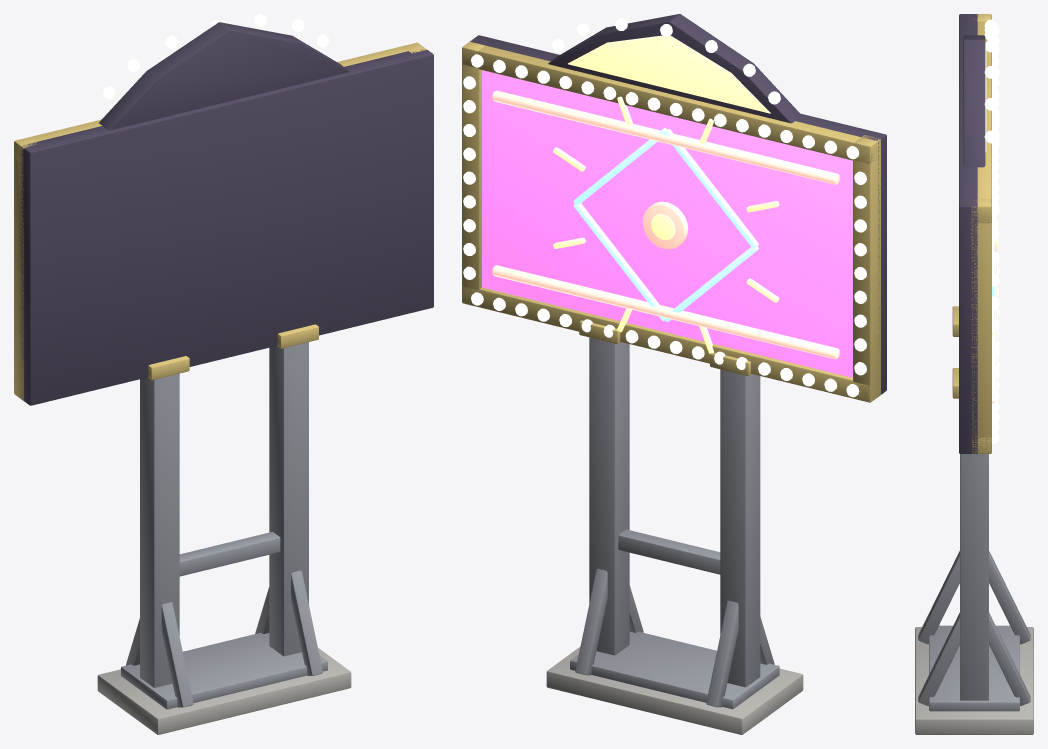
Rendered from th14_neonschild_gross.glb.
3 views of the same model, side by side, from view 1: azimuth 30°, elevation 25°; view 2: azimuth 150°, elevation 25°; view 3: azimuth 270°, elevation 25° (orthographic). The views are drawn at different scales.
Parts seen in each view (by area): view 1: Cube.011, NsKrone, Cube.002, Cube.004, Cube, Cube.001, Cube.015, Cube.010, Cube.006, Cube.008, Cube.014, Cube.005 (+1 smaller); view 2: Cube.012, Cube.002, Cube.004, Cube.014, Cube, Cube.001, NsKroneLicht, Cube.015, NsKrone, Cube.013, Cylinder.002, Cylinder.003 (+10 smaller); view 3: Cube.004, Cube.011, Cube, Cube.016, Cube.001, NsKrone, Cube.014, Cube.006, Cube.007, Cube.008, Cube.009, Cylinder.002 (+1 smaller).
Part boxes in pixels (left/top/right/bottom): Cube.011: left=20, top=49, right=433, bottom=405; NsKrone: left=99, top=22, right=349, bottom=130; Cube.002: left=140, top=373, right=179, bottom=687; Cube.004: left=269, top=342, right=308, bottom=656; Cube: left=97, top=648, right=351, bottom=734; Cube.001: left=121, top=632, right=327, bottom=709; Cube.015: left=14, top=137, right=36, bottom=400; Cube.010: left=179, top=532, right=280, bottom=576; Cube.006: left=161, top=602, right=193, bottom=707; Cube.008: left=291, top=570, right=322, bottom=676; Cube.014: left=14, top=46, right=408, bottom=162; Cube.005: left=277, top=324, right=318, bottom=348; Cube.012: left=482, top=70, right=852, bottom=377; Cube.002: left=720, top=369, right=760, bottom=687; Cube.004: left=589, top=337, right=629, bottom=655; Cube.014: left=462, top=45, right=878, bottom=163; Cube: left=546, top=646, right=803, bottom=734; Cube.001: left=570, top=631, right=779, bottom=709; NsKroneLicht: left=568, top=35, right=770, bottom=113; Cube.015: left=853, top=135, right=880, bottom=402; NsKrone: left=548, top=14, right=801, bottom=123; Cube.013: left=462, top=286, right=870, bottom=401; Cylinder.002: left=492, top=265, right=839, bottom=359; Cylinder.003: left=492, top=90, right=839, bottom=184; Cube.004: left=960, top=454, right=988, bottom=700; Cube.011: left=959, top=14, right=977, bottom=453; Cube: left=915, top=627, right=1033, bottom=734; Cube.016: left=971, top=198, right=991, bottom=453; Cube.001: left=929, top=625, right=1019, bottom=711; NsKrone: left=963, top=35, right=985, bottom=167; Cube.014: left=971, top=21, right=991, bottom=223; Cube.006: left=918, top=551, right=959, bottom=644; Cube.007: left=989, top=551, right=1030, bottom=644; Cube.008: left=918, top=612, right=959, bottom=705; Cube.009: left=989, top=612, right=1030, bottom=705; Cylinder.002: left=992, top=262, right=996, bottom=403.
Size of the model in its own units: 5 by 7.85 by 1.3.
